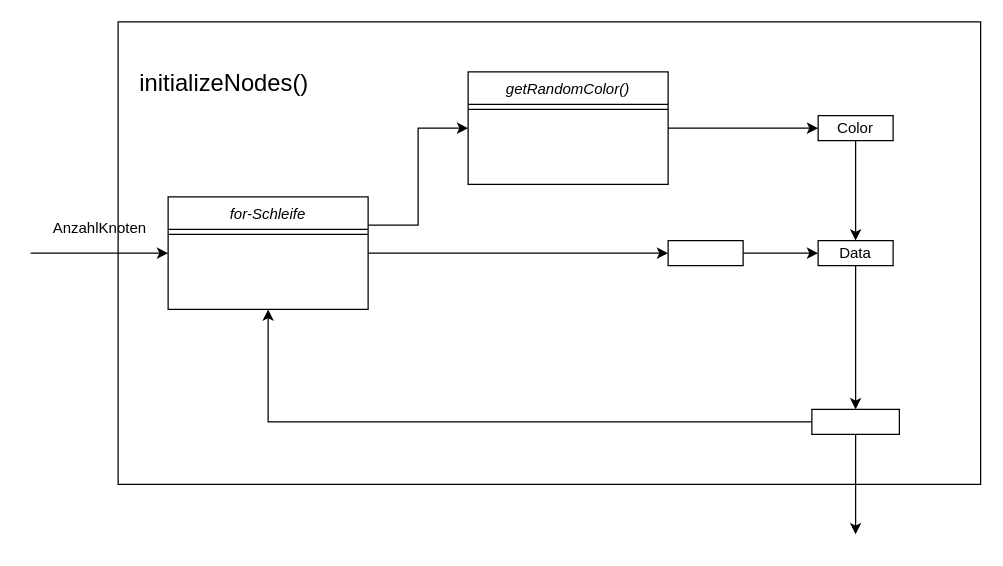
Some shapes in this 1003 by 566 pixel diagram are drawn without their labels. The shapes that lost their labels are listed below. From the top down, each one's centre as x and y in pixels, then its label:
At point 705,252: "ID".
At point 855,421: "Nodes".
